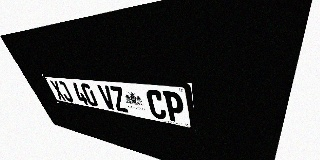0: (80, 83, 99, 107)
4: (71, 82, 89, 105)
C: (145, 89, 167, 120)
J: (56, 81, 74, 102)
P: (162, 91, 185, 124)
V: (97, 85, 117, 111)
X: (49, 80, 67, 101)
Z: (109, 86, 129, 113)
